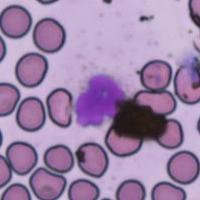D: (74, 72, 126, 127)
